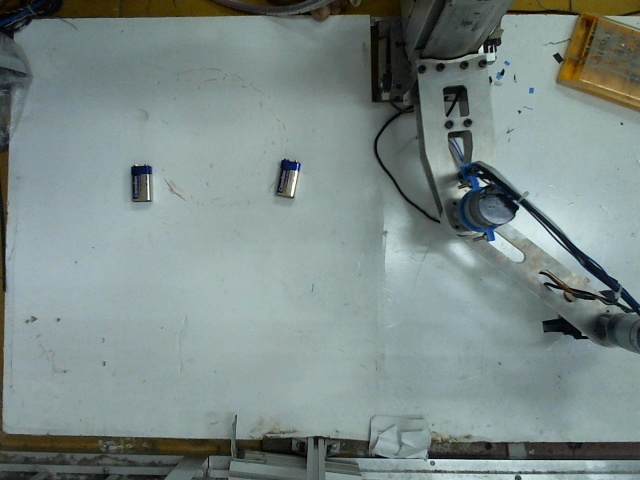battery: (124, 161, 158, 203), (271, 155, 300, 200)
